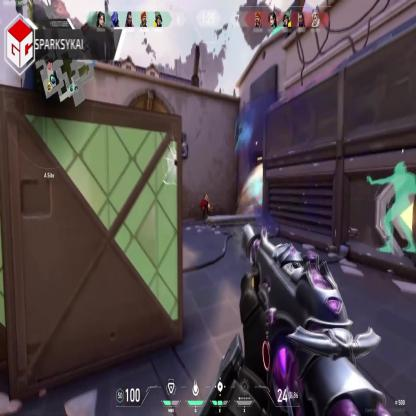enemy: (203, 192, 209, 222)
enemy_head: (205, 194, 208, 201)
